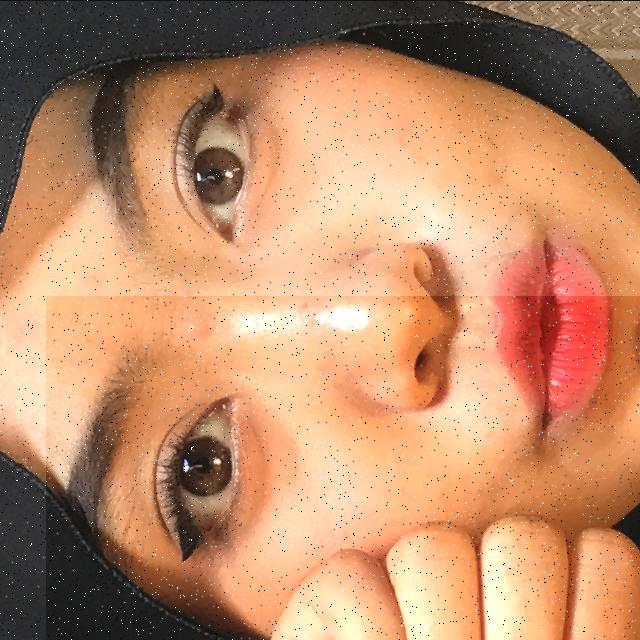sedih: (46, 295, 640, 640)
